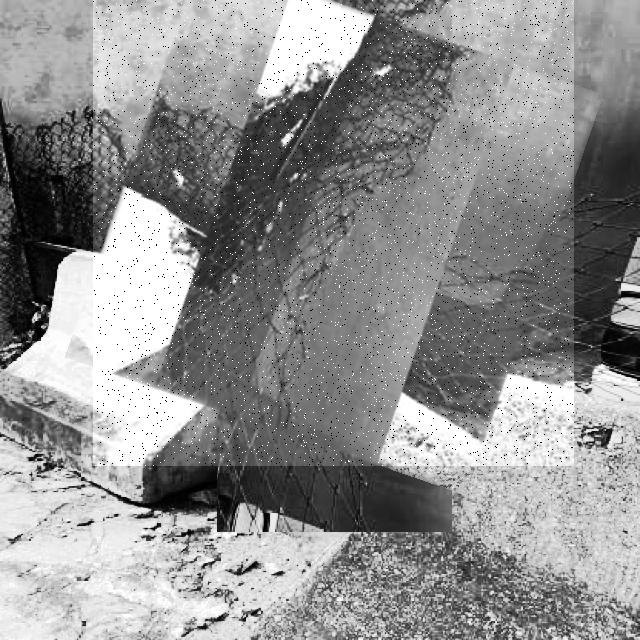anomaly-fence: (93, 0, 574, 466)
